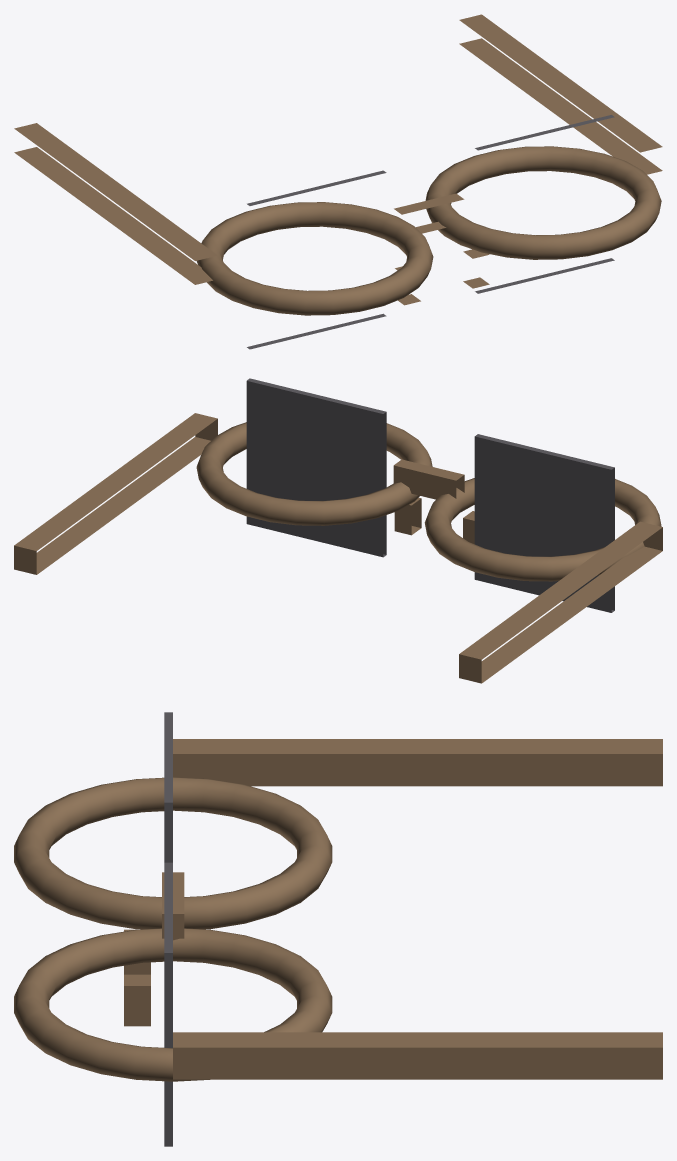
The model's file is round-tortoise.glb.
The picture shows the model from 3 angles, top to bottom: view 1: azimuth 30°, elevation 25°; view 2: azimuth 150°, elevation 25°; view 3: azimuth 270°, elevation 25°; orthographic projection. The views are drawn at different scales.
Parts seen in each view (by area): view 1: round-tortoise; view 2: round-tortoise; view 3: round-tortoise.
Part boxes in pixels (x1,y1,x2,y2): round-tortoise: (14, 14, 662, 349); round-tortoise: (14, 378, 662, 683); round-tortoise: (14, 712, 662, 1146).
Size of the model in its own units: 1.64 by 0.48 by 1.46.
